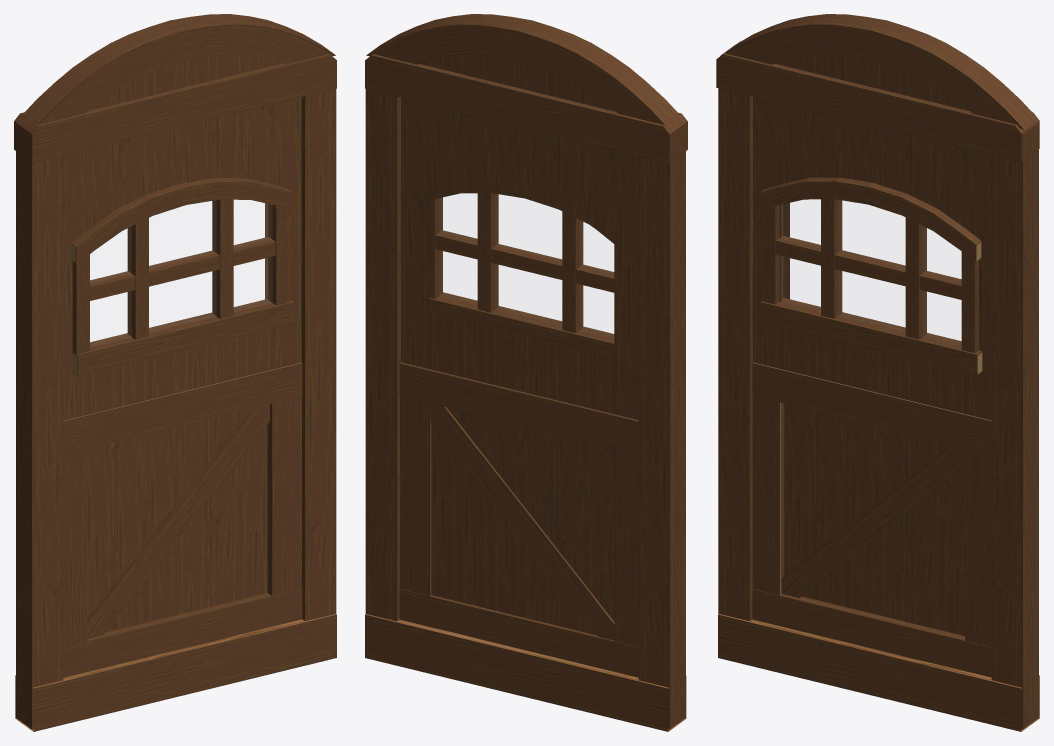
Rendered from Door_1_Round.glb.
3 views of the same model, side by side, from view 1: azimuth 30°, elevation 25°; view 2: azimuth 150°, elevation 25°; view 3: azimuth 330°, elevation 25° (orthographic).
Visible parts, largest first — view 1: Door_1_Round; view 2: Door_1_Round; view 3: Door_1_Round.
Part boxes in pixels (x1=…): Door_1_Round: x1=14, y1=14, x2=336, y2=731; Door_1_Round: x1=365, y1=14, x2=687, y2=731; Door_1_Round: x1=716, y1=14, x2=1039, y2=731.
Bounding box in the file's own units: 1.12 × 2.32 × 0.1206.
Materials: 2 (1 with a texture image).
